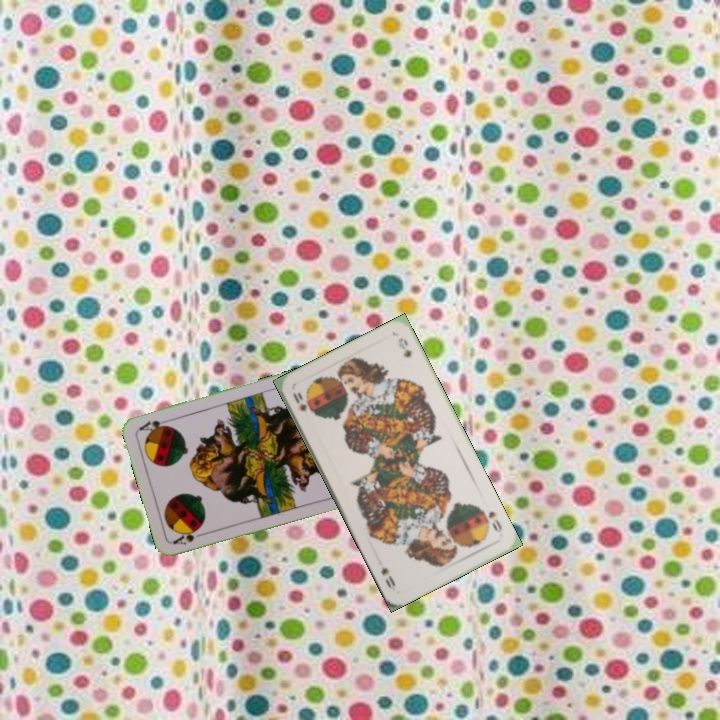SA: (169, 526, 209, 548)
SO: (478, 505, 505, 535), (288, 388, 315, 416)
